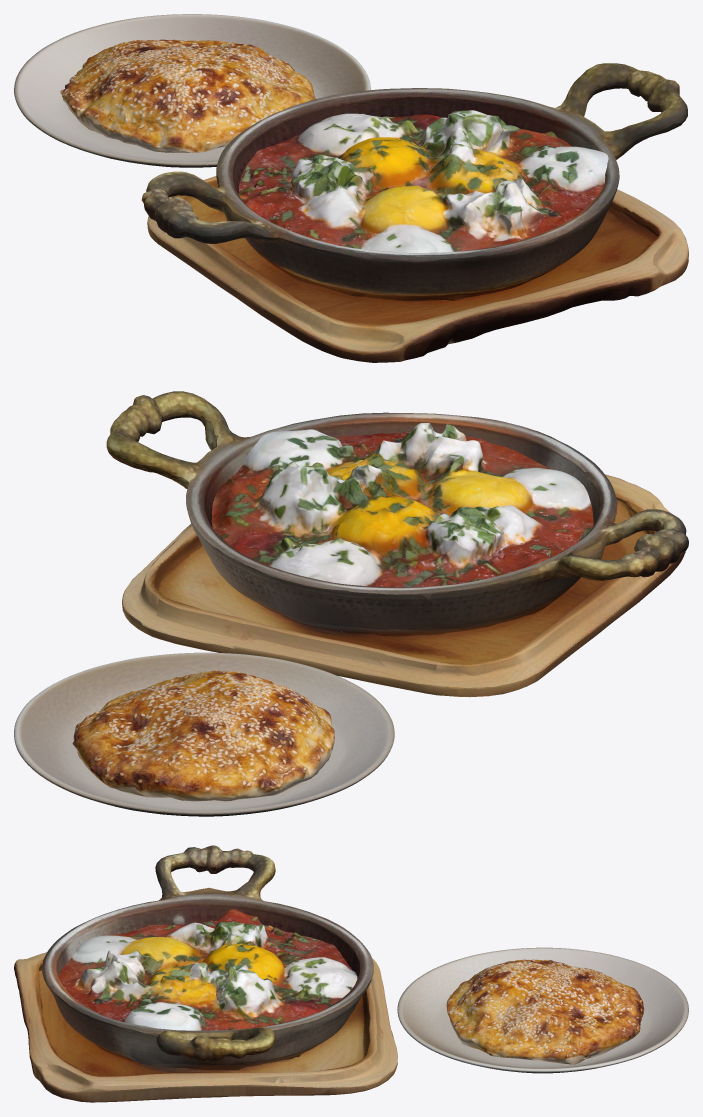
Rendered from bruschtawithmortela001.glb.
3 renders of one model, top to bottom at view 1: azimuth 30°, elevation 25°; view 2: azimuth 150°, elevation 25°; view 3: azimuth 270°, elevation 25°, orthographic. The views are drawn at different scales.
Parts seen in each view (by area): view 1: /Root/Scenes/Scene/Object_53/Object_54/Submesh_0, /Root/Scenes/Scene/Object_53/Object_55/Submesh_0, /Root/Scenes/Scene/Object_53/Object_58/Submesh_0, /Root/Scenes/Scene/Object_53/Object_62/Object_63/Submesh_0; view 2: /Root/Scenes/Scene/Object_53/Object_54/Submesh_0, /Root/Scenes/Scene/Object_53/Object_55/Submesh_0, /Root/Scenes/Scene/Object_53/Object_58/Submesh_0, /Root/Scenes/Scene/Object_53/Object_62/Object_63/Submesh_0; view 3: /Root/Scenes/Scene/Object_53/Object_54/Submesh_0, /Root/Scenes/Scene/Object_53/Object_55/Submesh_0, /Root/Scenes/Scene/Object_53/Object_58/Submesh_0, /Root/Scenes/Scene/Object_53/Object_62/Object_63/Submesh_0.
Boxes of the visible parts, x1=… form: /Root/Scenes/Scene/Object_53/Object_54/Submesh_0: x1=141, y1=63, x2=688, y2=362; /Root/Scenes/Scene/Object_53/Object_55/Submesh_0: x1=238, y1=110, x2=608, y2=252; /Root/Scenes/Scene/Object_53/Object_58/Submesh_0: x1=60, y1=39, x2=316, y2=152; /Root/Scenes/Scene/Object_53/Object_62/Object_63/Submesh_0: x1=14, y1=14, x2=370, y2=167; /Root/Scenes/Scene/Object_53/Object_54/Submesh_0: x1=106, y1=391, x2=688, y2=697; /Root/Scenes/Scene/Object_53/Object_55/Submesh_0: x1=211, y1=423, x2=593, y2=587; /Root/Scenes/Scene/Object_53/Object_58/Submesh_0: x1=72, y1=670, x2=334, y2=801; /Root/Scenes/Scene/Object_53/Object_62/Object_63/Submesh_0: x1=14, y1=652, x2=394, y2=816; /Root/Scenes/Scene/Object_53/Object_54/Submesh_0: x1=14, y1=845, x2=397, y2=1102; /Root/Scenes/Scene/Object_53/Object_55/Submesh_0: x1=58, y1=909, x2=357, y2=1030; /Root/Scenes/Scene/Object_53/Object_58/Submesh_0: x1=446, y1=959, x2=644, y2=1064; /Root/Scenes/Scene/Object_53/Object_62/Object_63/Submesh_0: x1=397, y1=947, x2=688, y2=1073.
Bounding box in the file's own units: 0.2832 × 0.0631 × 0.3948.
Materials: 4 (4 with a texture image).
